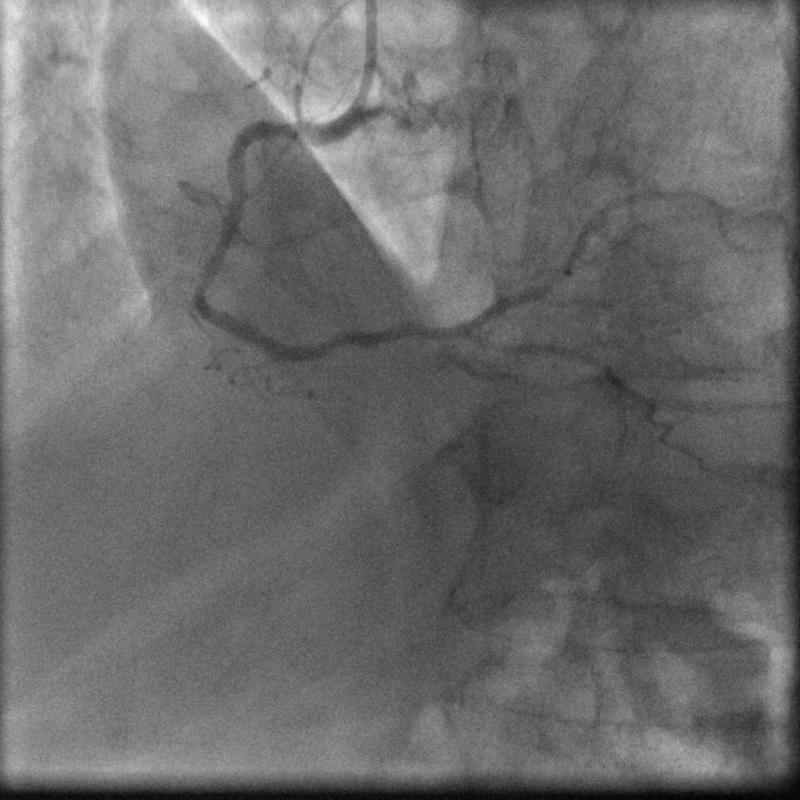Stenosis: (194, 263, 217, 294)
